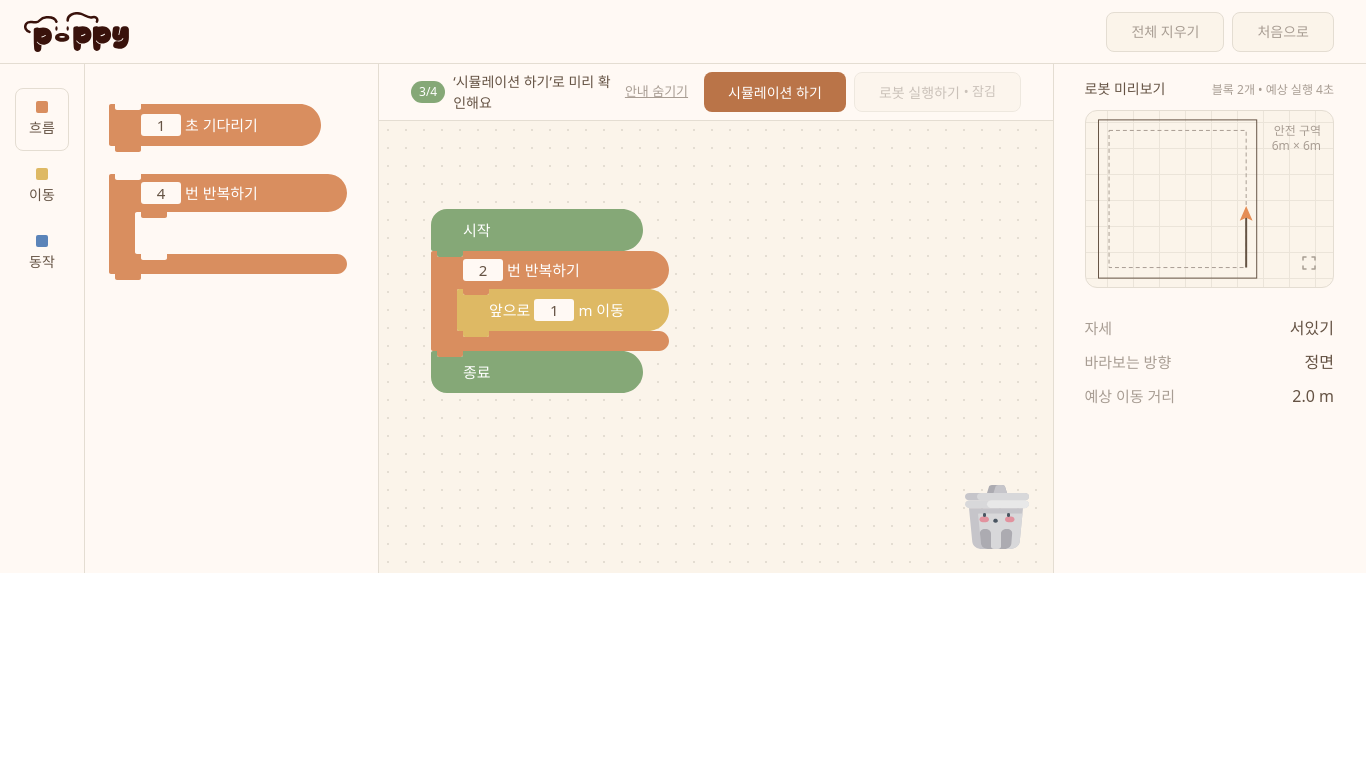
ExperienceView › 저장 요청이 실패하면 오프라인 안내를 보여준다
Replace the text in the number field named "반복 횟수" with "3" at (483, 270), box [463,259,503,281]
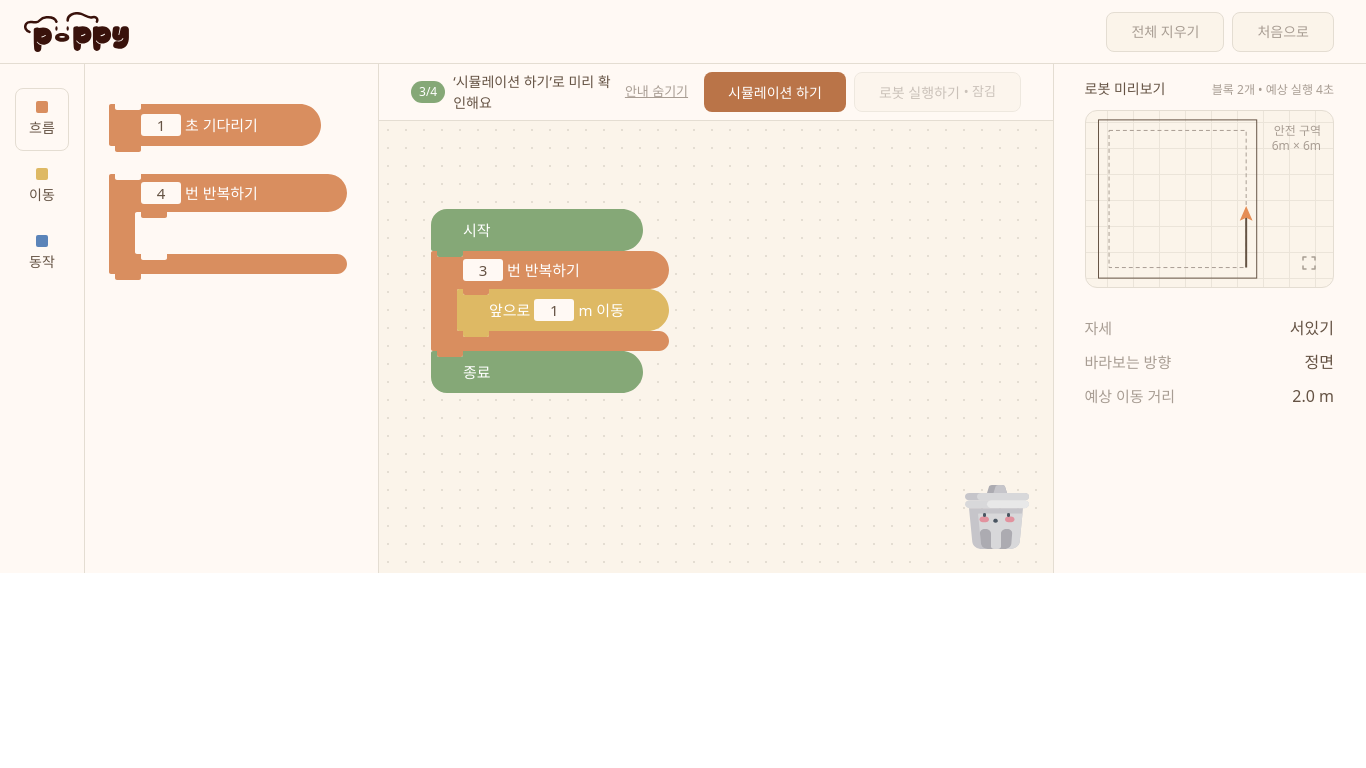
Leave the number field named "반복 횟수", box [463,259,503,281]
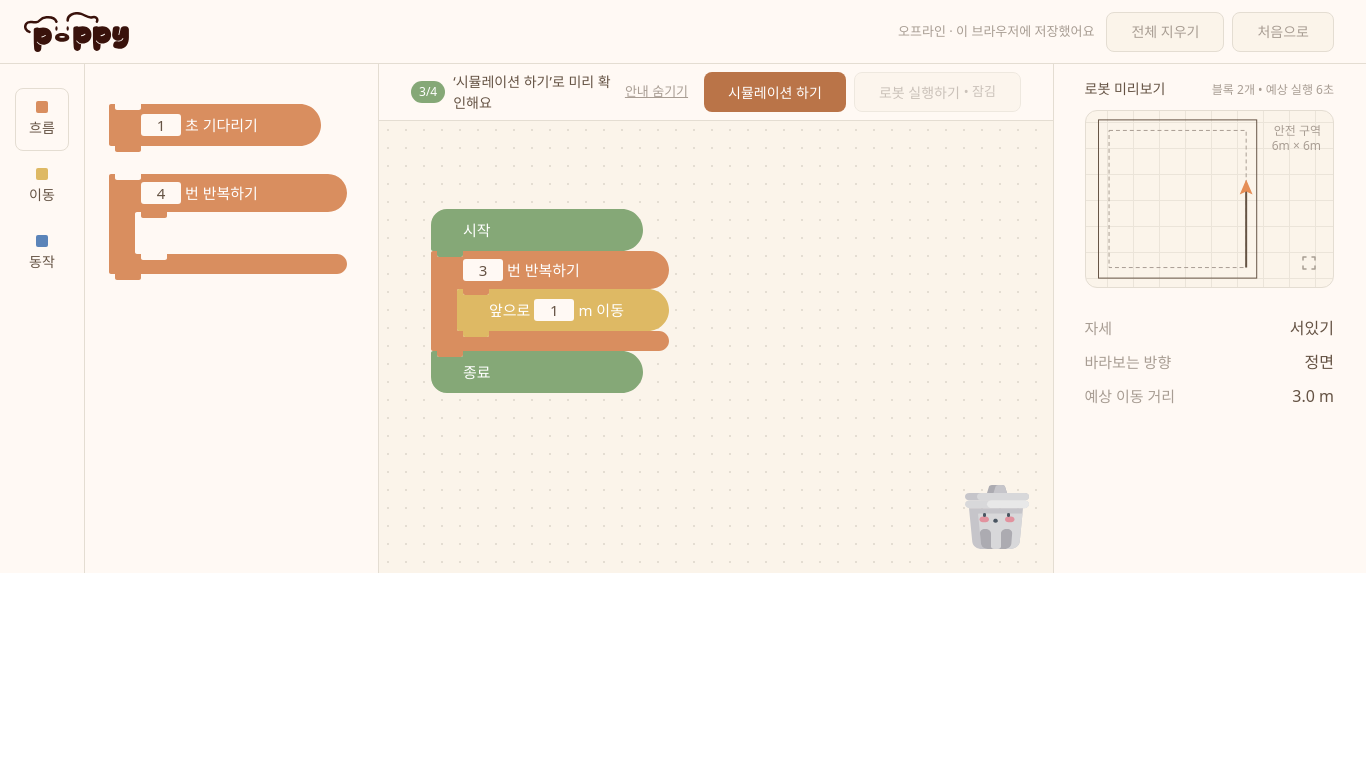
Expected: the text "오프라인 · 이 브라우저에 저장했어요" is shown, [898,22,1094,41]
